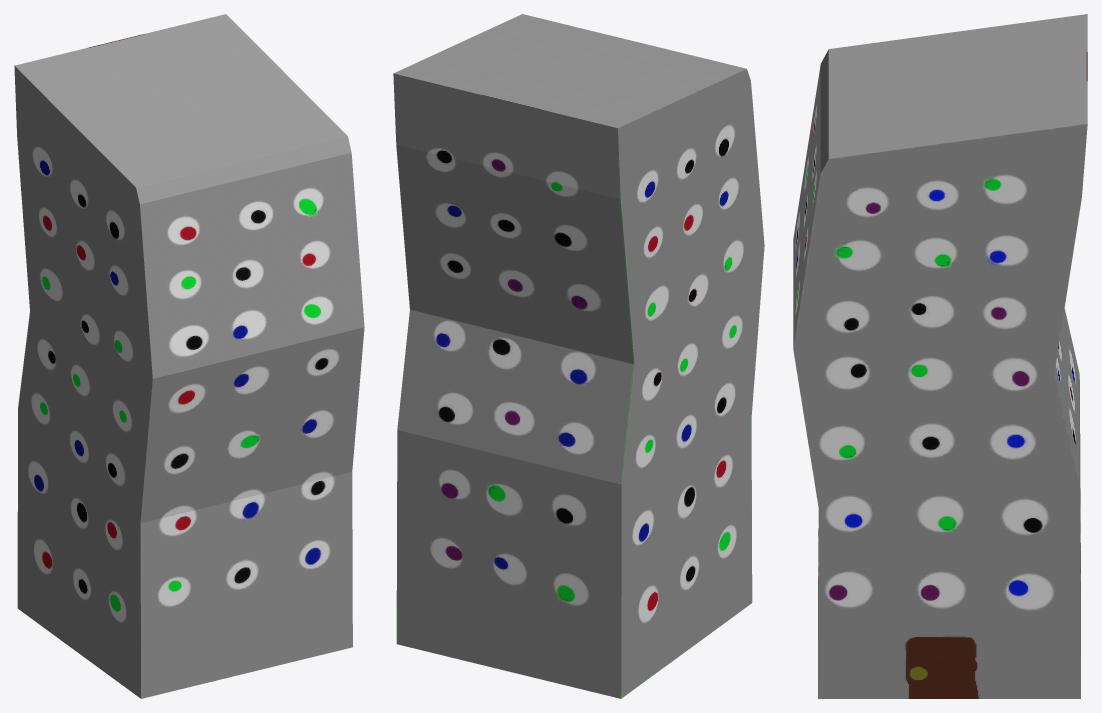
The model's file is building1.gltf.
The picture shows the model from 3 angles, left to right: view 1: azimuth 30°, elevation 25°; view 2: azimuth 150°, elevation 25°; view 3: azimuth 270°, elevation 25°; orthographic projection. The views are drawn at different scales.
Parts seen in each view (by area): view 1: MeshInstance3D; view 2: MeshInstance3D; view 3: MeshInstance3D.
Boxes of the visible parts, x1,y1,x2,y2 form: MeshInstance3D: (14, 14, 364, 698); MeshInstance3D: (393, 14, 764, 698); MeshInstance3D: (793, 14, 1087, 698).
Size of the model in its own units: 15.93 by 38.87 by 18.04.
Materials: 1 (1 with a texture image).
